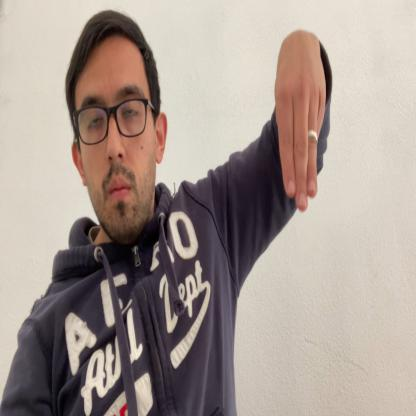M: (274, 31, 327, 212)
